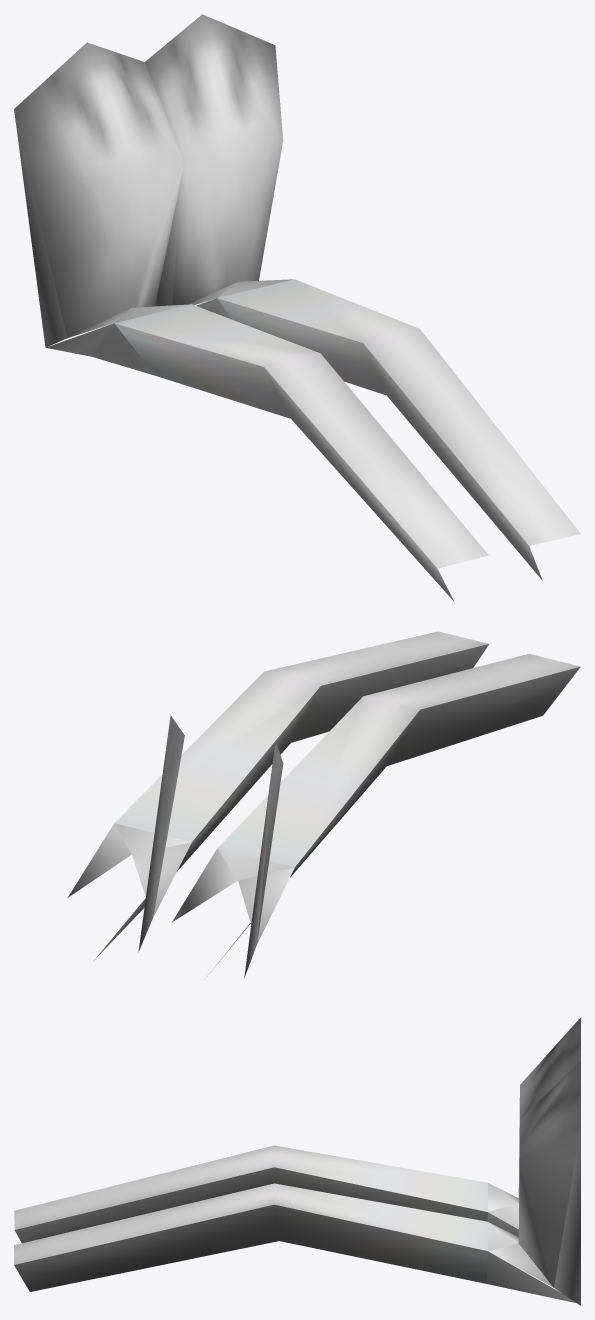
File: legs_l_250.glb
3 renders of one model, top to bottom at view 1: azimuth 30°, elevation 25°; view 2: azimuth 150°, elevation 25°; view 3: azimuth 270°, elevation 25°, orthographic. The views are drawn at different scales.
Parts seen in each view (by area): view 1: feet, legs; view 2: legs, feet; view 3: legs, feet.
Boxes of the visible parts, left/top/right/bottom form: feet: left=14, top=14, right=293, bottom=375; legs: left=114, top=279, right=580, bottom=602; legs: left=114, top=631, right=580, bottom=877; feet: left=67, top=715, right=294, bottom=979; legs: left=14, top=1145, right=487, bottom=1291; feet: left=487, top=1017, right=580, bottom=1305.
Size of the model in its own units: 1.06 by 1.23 by 2.57.
Materials: 2 (2 with a texture image).
